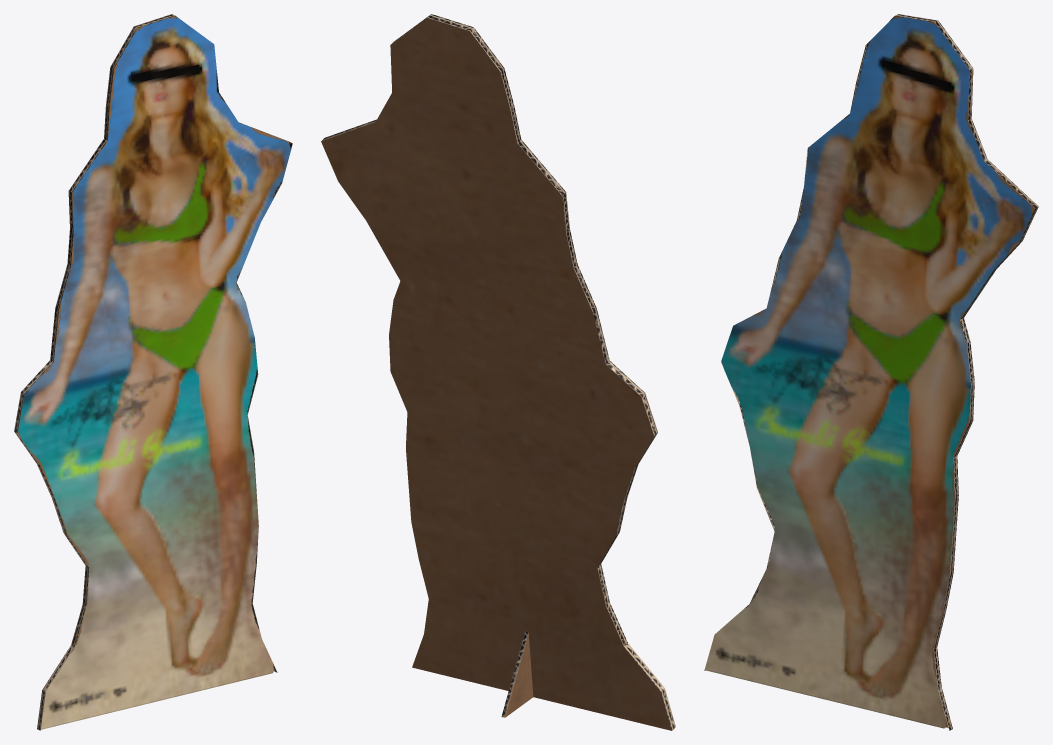
The model's file is cutout.FBX.
The picture shows the model from 3 angles, left to right: view 1: azimuth 30°, elevation 25°; view 2: azimuth 150°, elevation 25°; view 3: azimuth 330°, elevation 25°; orthographic projection. The views are drawn at different scales.
Parts seen in each view (by area): view 1: cutout; view 2: cutout; view 3: cutout.
Part boxes in pixels (x1,y1,x2,y2): cutout: [14, 14, 292, 730]; cutout: [321, 14, 675, 730]; cutout: [704, 14, 1038, 730].
Bounding box in the file's own units: 37.67 × 79.54 × 10.74.
